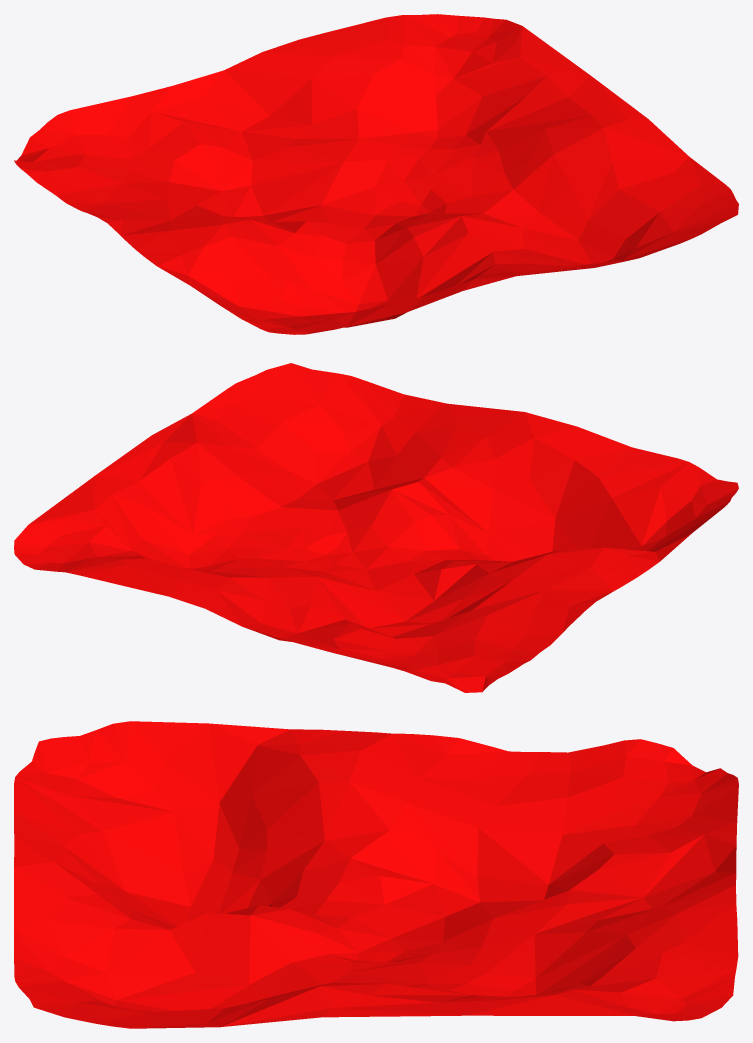
File: Ground.glb
3 views of the same model, one above another, from view 1: azimuth 30°, elevation 25°; view 2: azimuth 150°, elevation 25°; view 3: azimuth 270°, elevation 25° (orthographic). The views are drawn at different scales.
Visible parts, largest first — view 1: Ground_01; view 2: Ground_01; view 3: Ground_01.
Part boxes in pixels (x1=…): Ground_01: x1=14, y1=14, x2=738, y2=334; Ground_01: x1=14, y1=363, x2=738, y2=692; Ground_01: x1=14, y1=721, x2=738, y2=1028.
Bounding box in the file's own units: 29.77 × 4.89 × 29.74.
